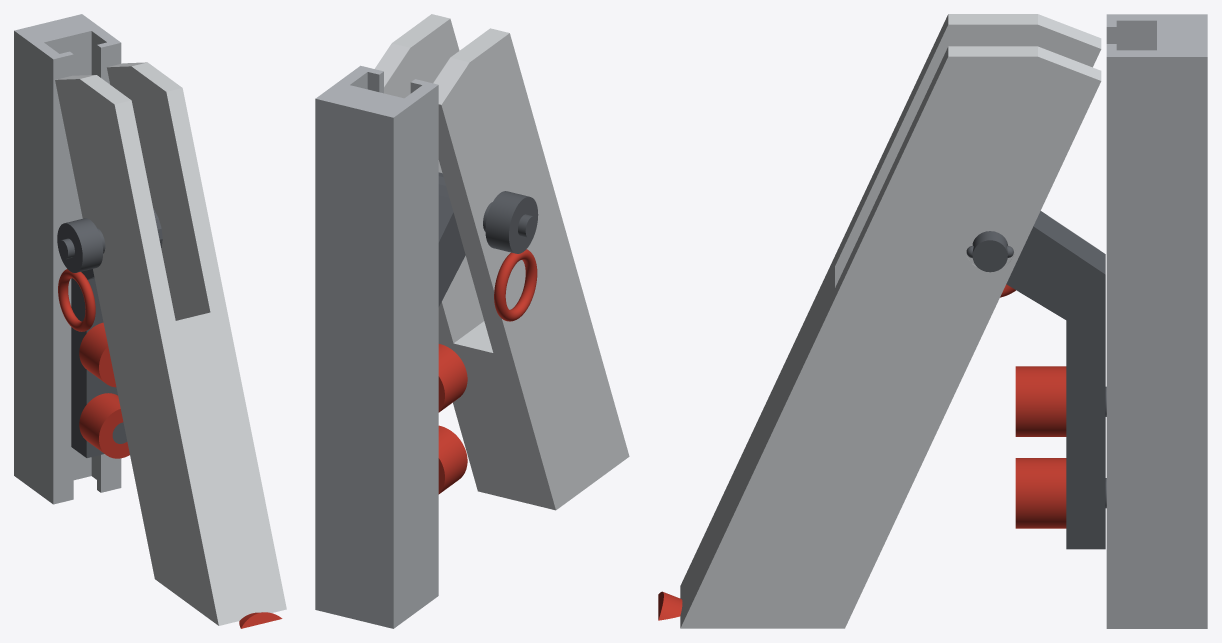
File: c_detail_shelf.glb
The picture shows the model from 3 angles, left to right: view 1: azimuth 30°, elevation 25°; view 2: azimuth 150°, elevation 25°; view 3: azimuth 270°, elevation 25°; orthographic projection. The views are drawn at different scales.
Parts seen in each view (by area): view 1: panel_rail, ring_upright, thumb_knob (×2), link, quick_release_pin, pin_pull_ring, wing_knob; view 2: ring_upright, panel_rail, thumb_knob (×2), quick_release_pin, link, pin_pull_ring; view 3: panel_rail, ring_upright, link, thumb_knob (×2), quick_release_pin.
Part boxes in pixels (x1,y1,x2,y2): panel_rail: [55, 62, 286, 625]; ring_upright: [14, 14, 121, 504]; thumb_knob (×2): [79, 322, 129, 458]; link: [71, 209, 162, 457]; quick_release_pin: [57, 218, 105, 272]; pin_pull_ring: [58, 269, 95, 331]; wing_knob: [239, 612, 282, 628]; ring_upright: [315, 65, 438, 628]; panel_rail: [375, 14, 629, 510]; thumb_knob (×2): [438, 344, 467, 494]; quick_release_pin: [483, 191, 538, 253]; link: [438, 172, 465, 306]; pin_pull_ring: [494, 249, 537, 321]; panel_rail: [680, 14, 1101, 628]; ring_upright: [1106, 14, 1207, 628]; link: [1006, 211, 1105, 549]; thumb_knob (×2): [1015, 366, 1066, 528]; quick_release_pin: [966, 231, 1013, 272].
Bounding box in the file's own units: 0.0343 × 0.125 × 0.1088.
